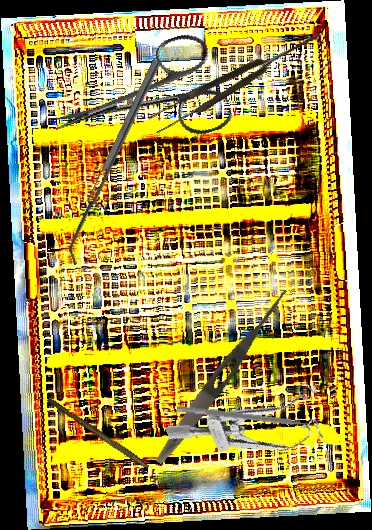Dressing Forceps: (151, 284, 292, 469)
Iris Scissors: (40, 27, 235, 176)
Scalpel Handle: (45, 396, 152, 470)
Spatula Surgical: (60, 58, 169, 266), (175, 405, 320, 434)
Speculum: (164, 368, 337, 492)
Tissue Forceps: (146, 24, 328, 136)
